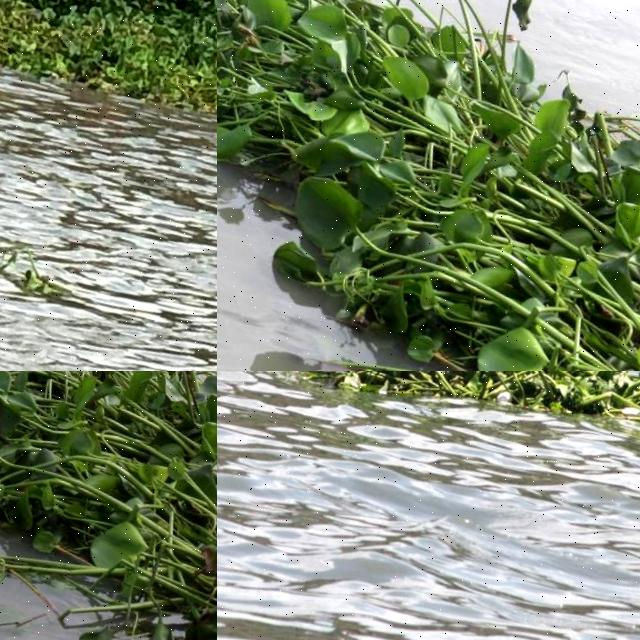water-hyacinth: (218, 1, 640, 372), (1, 372, 218, 640), (218, 372, 640, 491), (1, 1, 218, 180), (1, 246, 68, 299)
